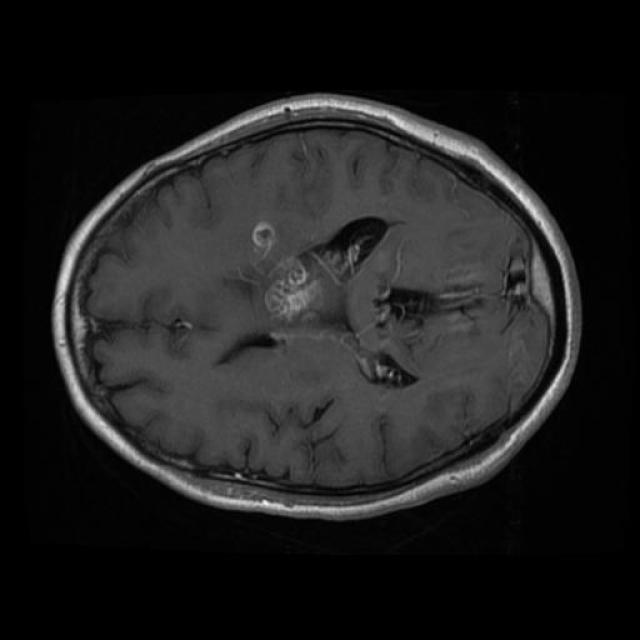Glioma: (264, 244, 343, 322), (252, 222, 274, 251)
